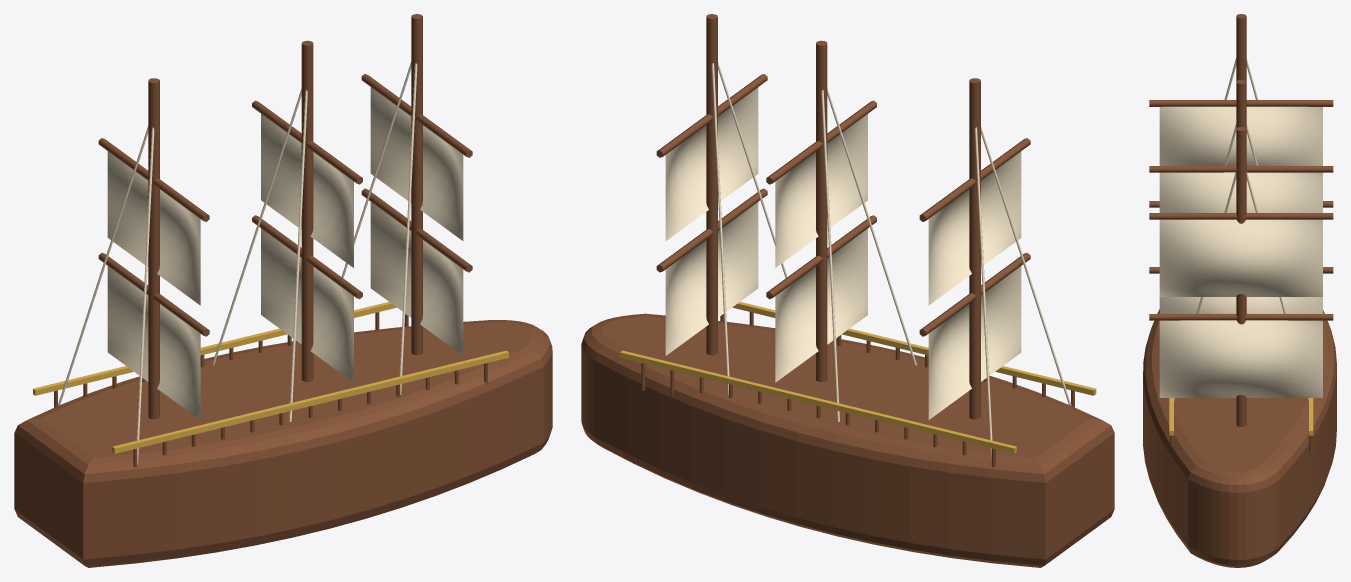
File: ship.glb
3 renders of one model, left to right at view 1: azimuth 30°, elevation 25°; view 2: azimuth 150°, elevation 25°; view 3: azimuth 270°, elevation 25°, orthographic. The views are drawn at different scales.
Size of the model in its own units: 3.39 by 2.9 by 1.31.
